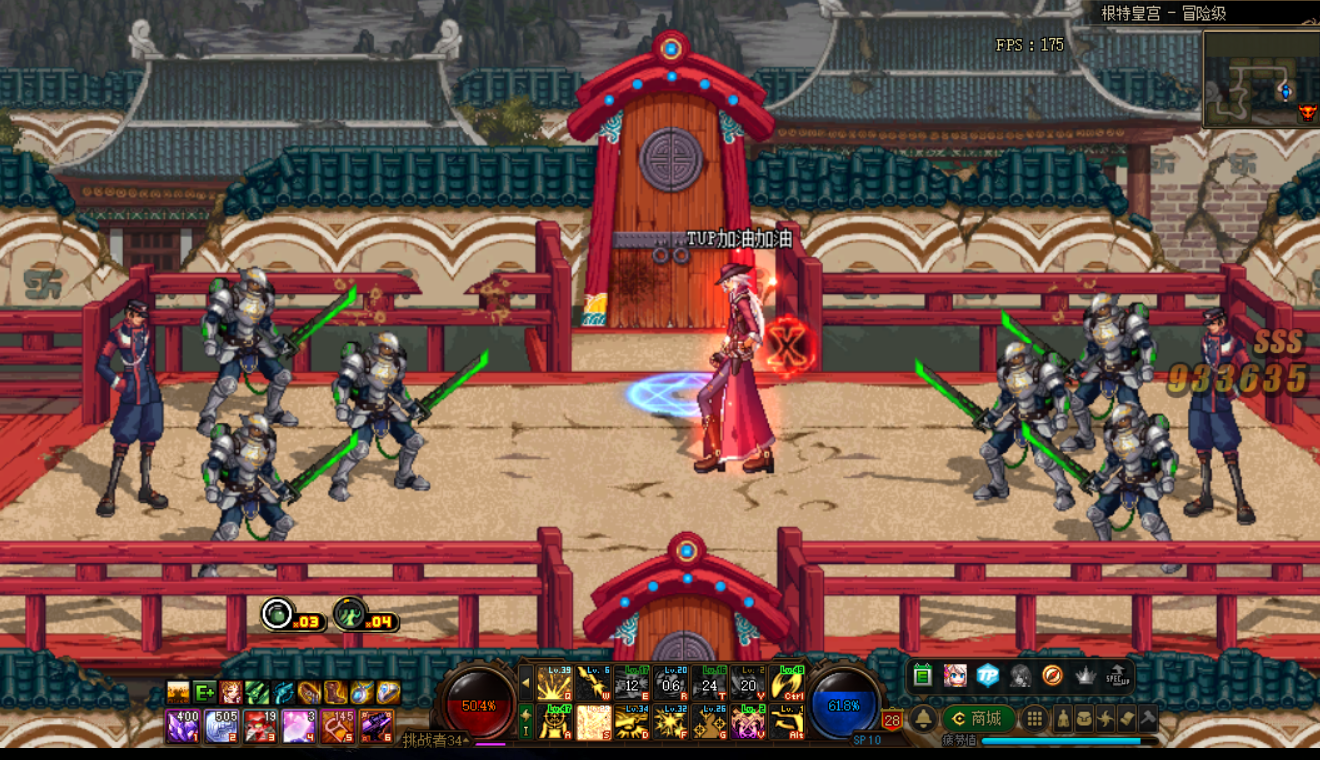monster: (331, 330, 490, 498), (198, 260, 356, 428), (928, 332, 1071, 511), (191, 415, 368, 548), (1169, 282, 1265, 527), (1031, 402, 1184, 545), (1008, 286, 1158, 431), (98, 300, 182, 524)
warrior: (667, 248, 783, 471)
